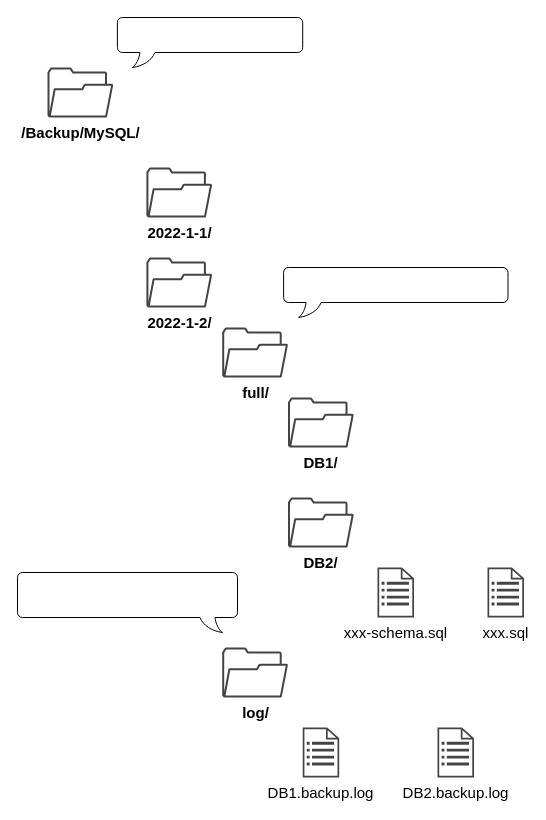
The diagram is 546 pixels wide and 820 high, and some of its shapes have lost their labels. The centre of each missing label's shape, as x and y in pixels:
"database logs while backup" belongs at pixel 127 602.
"Include each database data" belongs at pixel 395 292.
"Your setting backup_dir" belongs at pixel 209 42.
